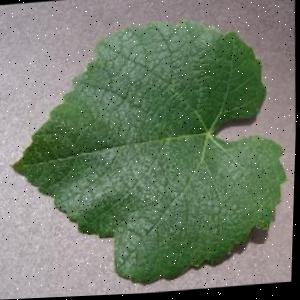Folha: (1, 12, 294, 296)
